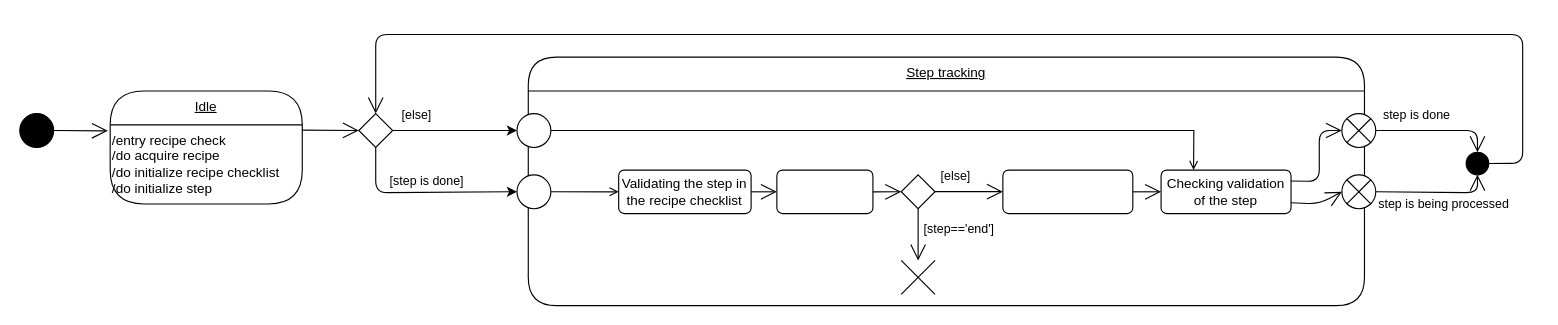
Image size: 1558x325. Some labels were removed from this diagram. Each missing label, with the box of its shape:
Proceeding to the next step: (776, 169, 873, 214)
Sending the step to the Action Planner: (1002, 169, 1133, 214)
